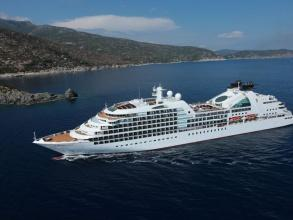youlun: (32, 79, 290, 162)
